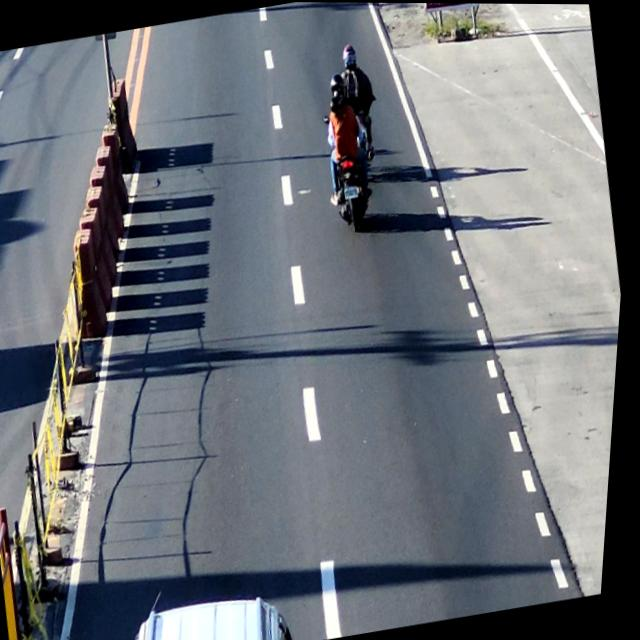Car: (122, 576, 308, 640)
License-Plate: (345, 185, 363, 201)
Motorcycle: (313, 73, 385, 237), (327, 39, 385, 167)
